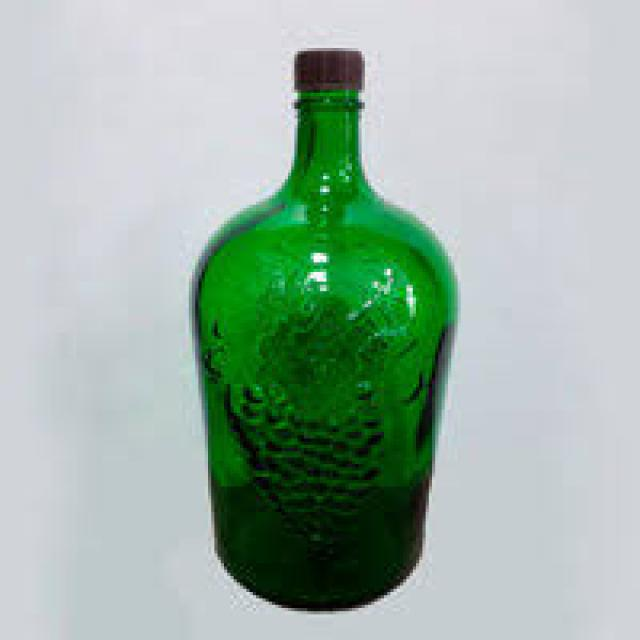glass: (192, 90, 454, 608)
plastic: (291, 48, 362, 86)
